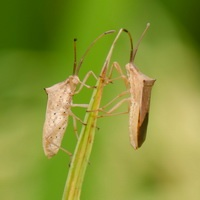insect: (43, 30, 114, 157), (106, 23, 155, 148)
